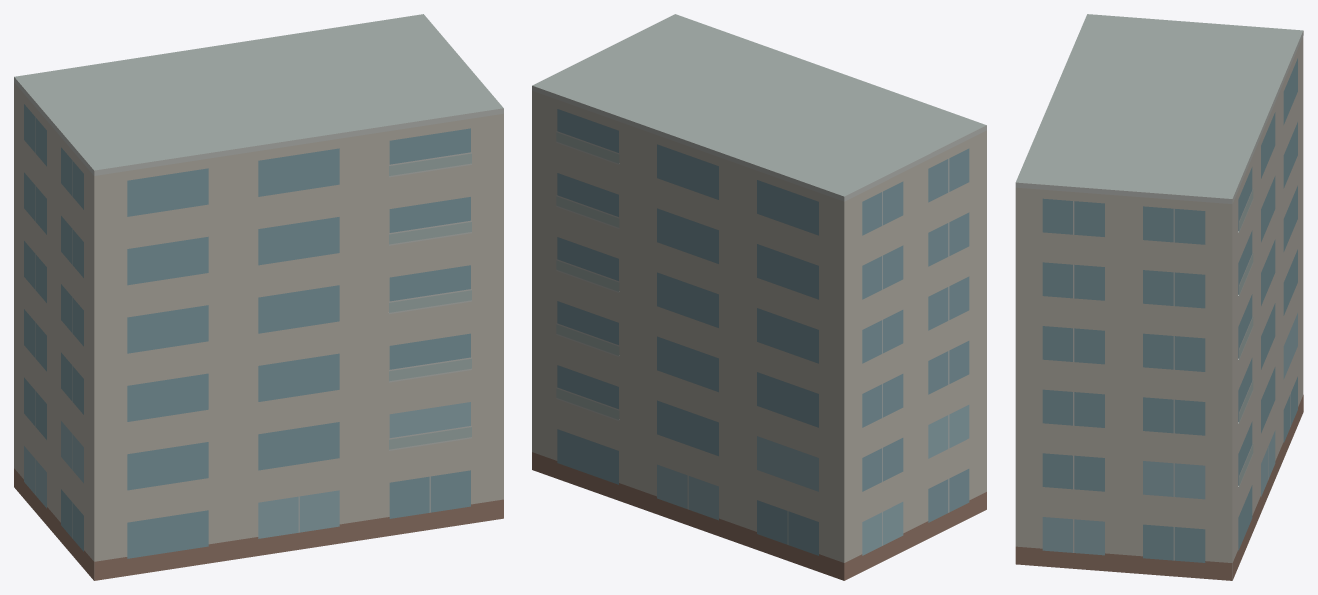
Rendered from survey-upis-32925830.glb.
3 views of the same model, side by side, from view 1: azimuth 30°, elevation 25°; view 2: azimuth 150°, elevation 25°; view 3: azimuth 270°, elevation 25° (orthographic). The views are drawn at different scales.
Visible parts, largest first — view 1: survey-upis-32925830.tmp; view 2: survey-upis-32925830.tmp; view 3: survey-upis-32925830.tmp.
Part boxes in pixels (x1,y1,x2,y2): survey-upis-32925830.tmp: (14,14,503,580); survey-upis-32925830.tmp: (532,14,986,580); survey-upis-32925830.tmp: (1015,14,1303,580).
Bounding box in the file's own units: 19.03 × 18.3 × 12.52.
